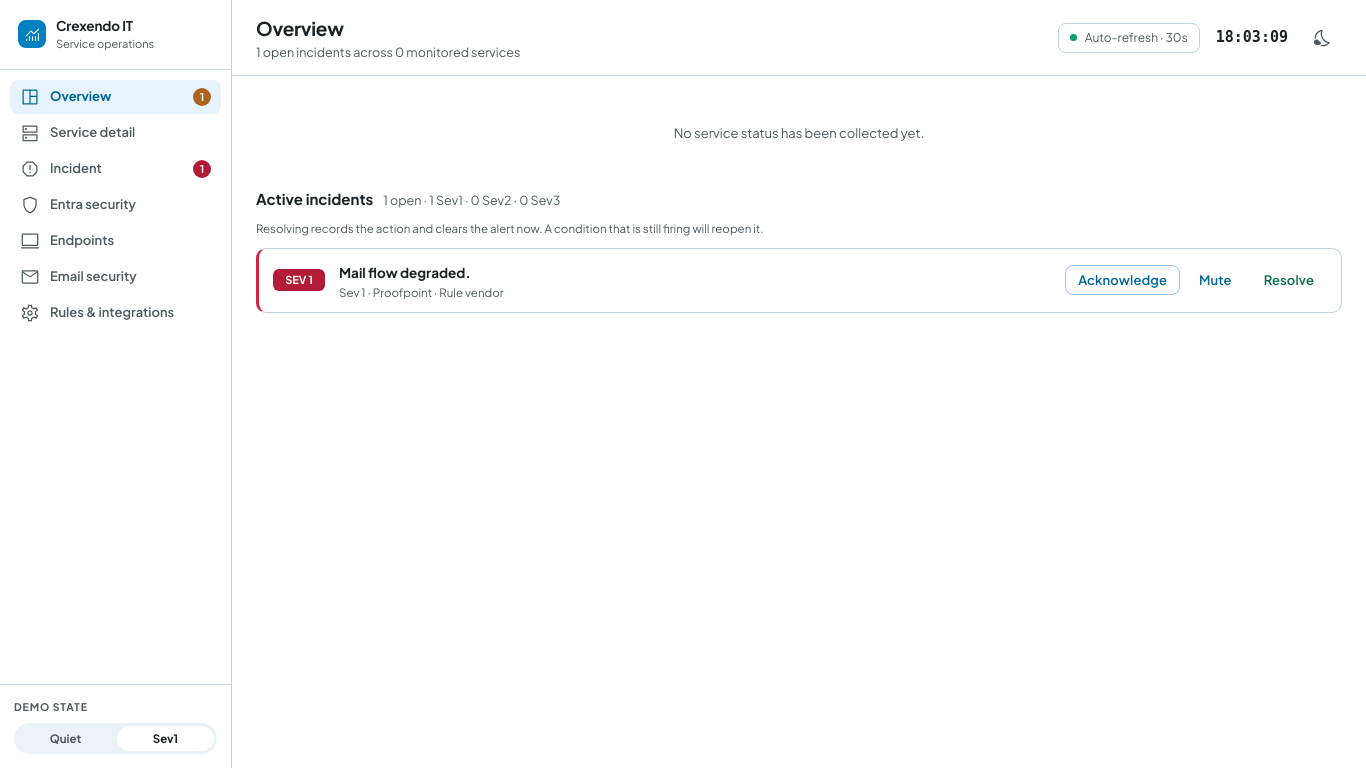
it: Resolve says what it actually does › a resolve that FAILED offers no reassurance at all
Expected: the element with test id "alert-row" is shown, [256,248,1342,313]
Click the button "Resolve": [1289, 280] box [1251,265,1327,295]
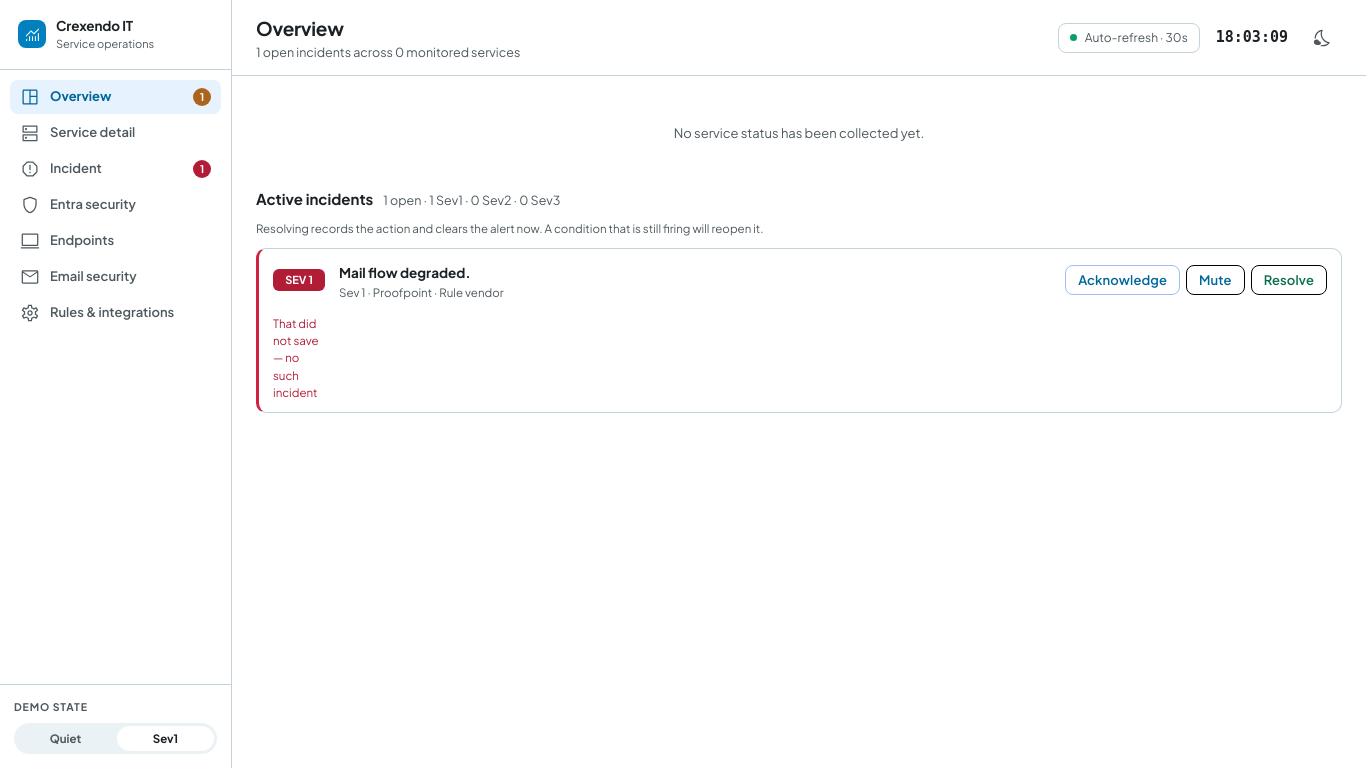
Expected: the message with test id "write-error" shows "no such incident", [273,316,319,400]
